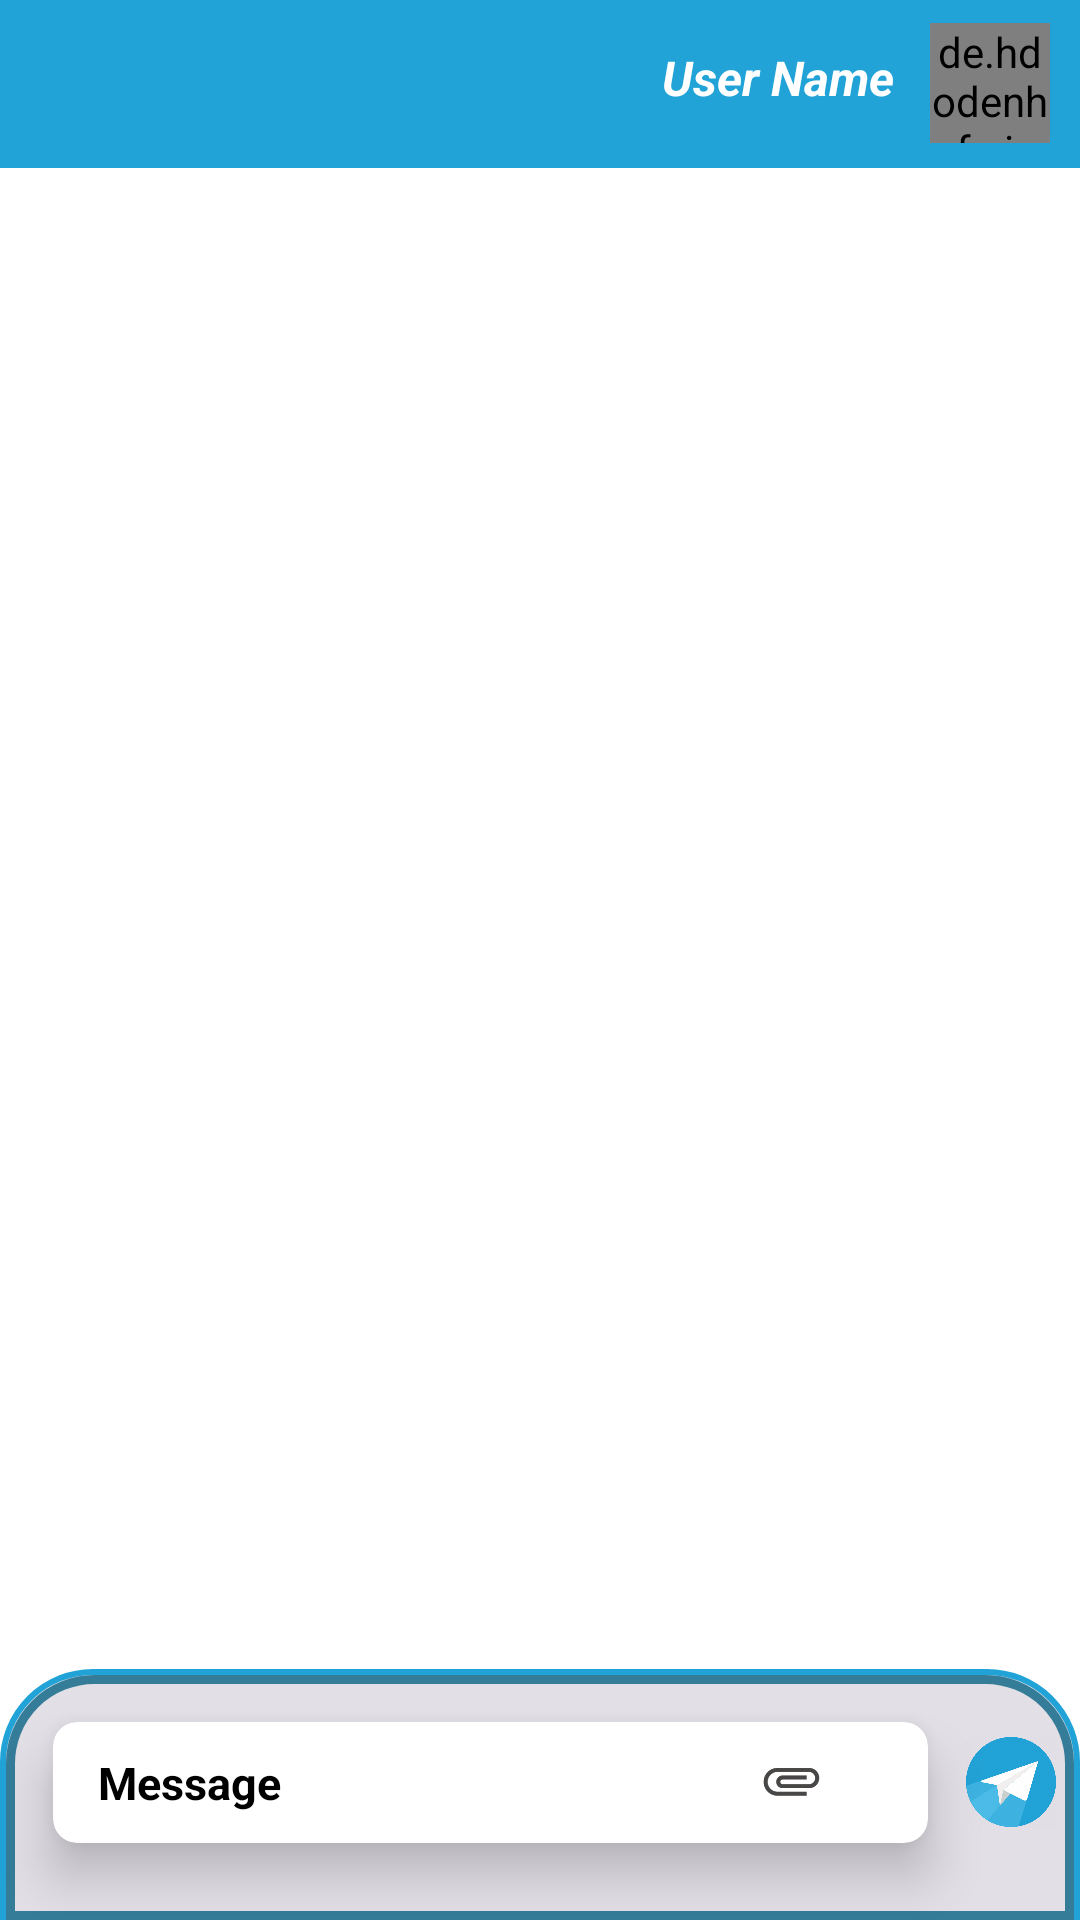

Icon click points for this 1080px×1920px phone screenshot, format (x,y):
attachment: (791,1782)
